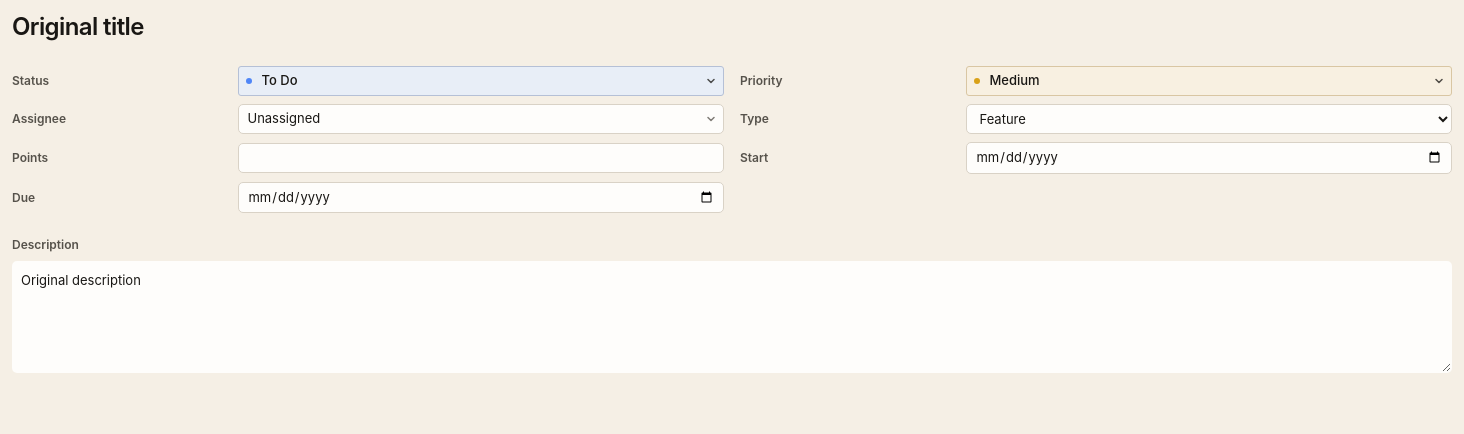
it: DrawerFields realtime reconciliation › does not save a reversed date range
In the date field named "Start date": [1209, 158] box [966,142,1452,174], type "2026-07-20"
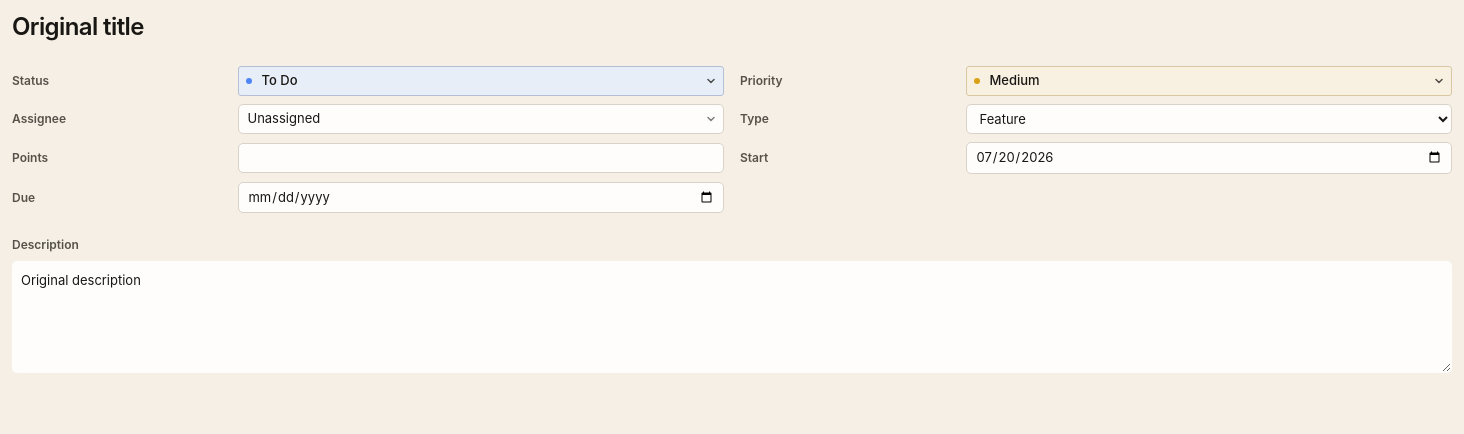
In the date field named "Due date": [481, 197] box [238,182,724,213], type "2026-07-10"
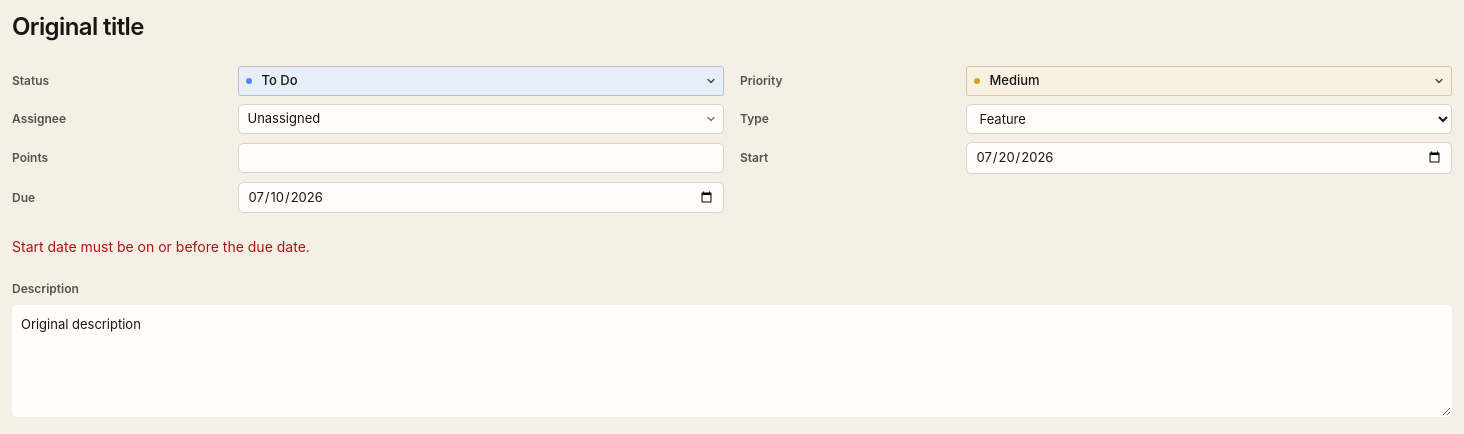
Expected: the message shows "on or before", [12,238,310,255]
